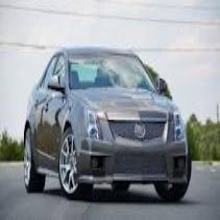no damage: (22, 47, 192, 200)
